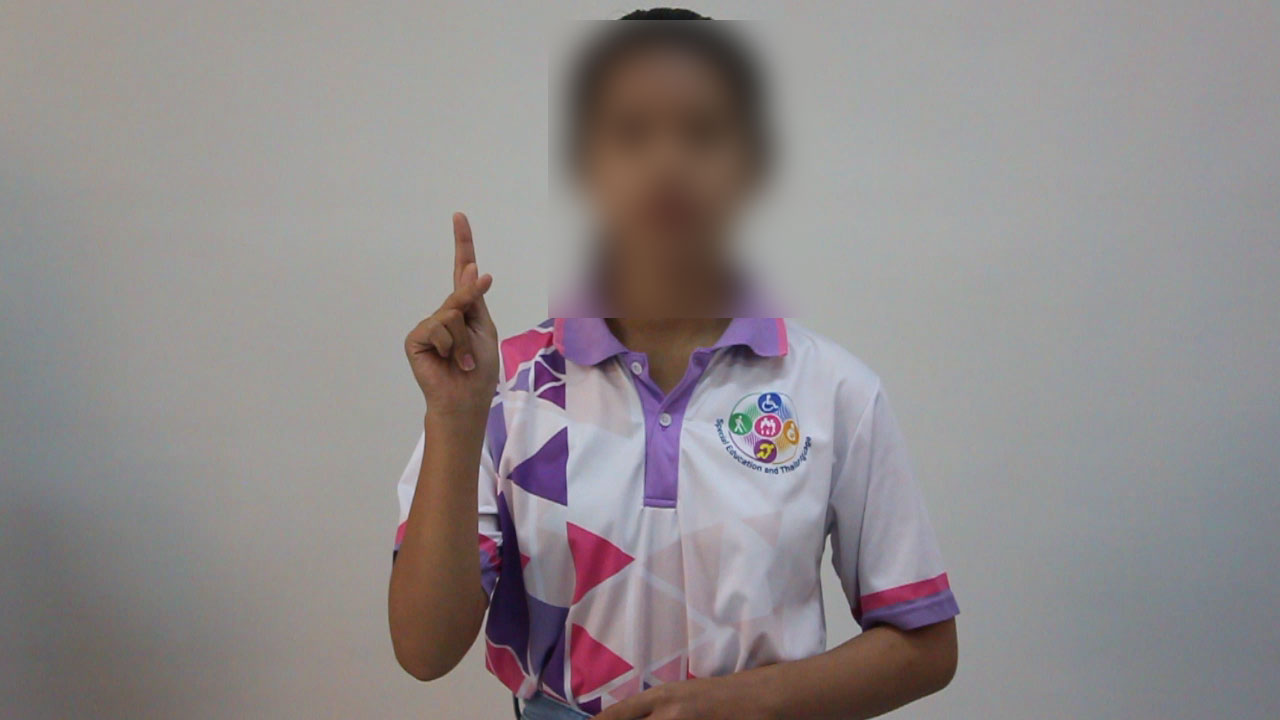ko: (386, 199, 523, 423)
